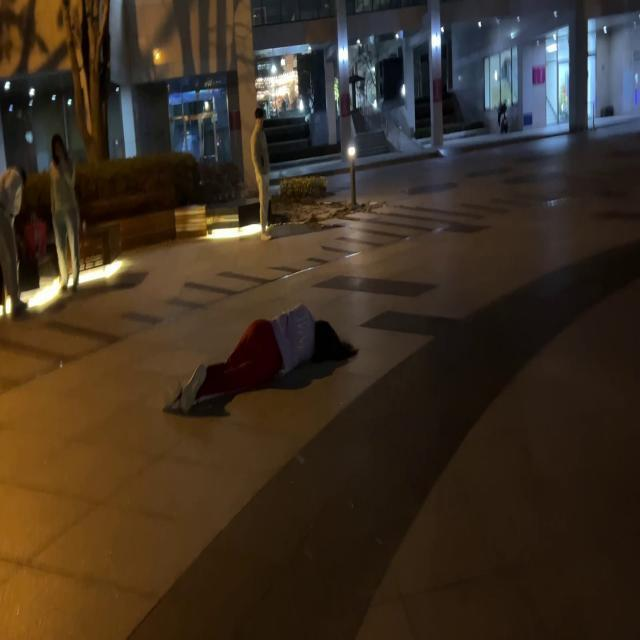Fall: (164, 306, 358, 414)
Stand: (49, 135, 80, 291), (251, 107, 270, 240)
